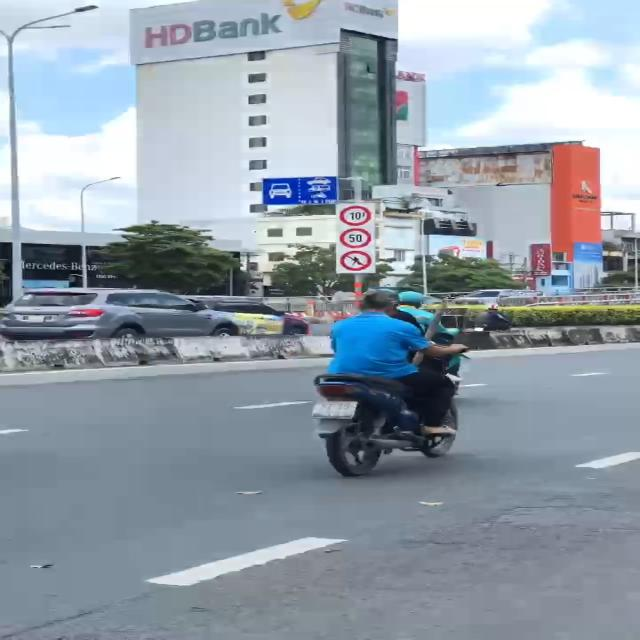Bien bao cam nguoi di bo: (337, 248, 378, 274)
Bien bao toc do toi da cho phep: (340, 226, 378, 248)
